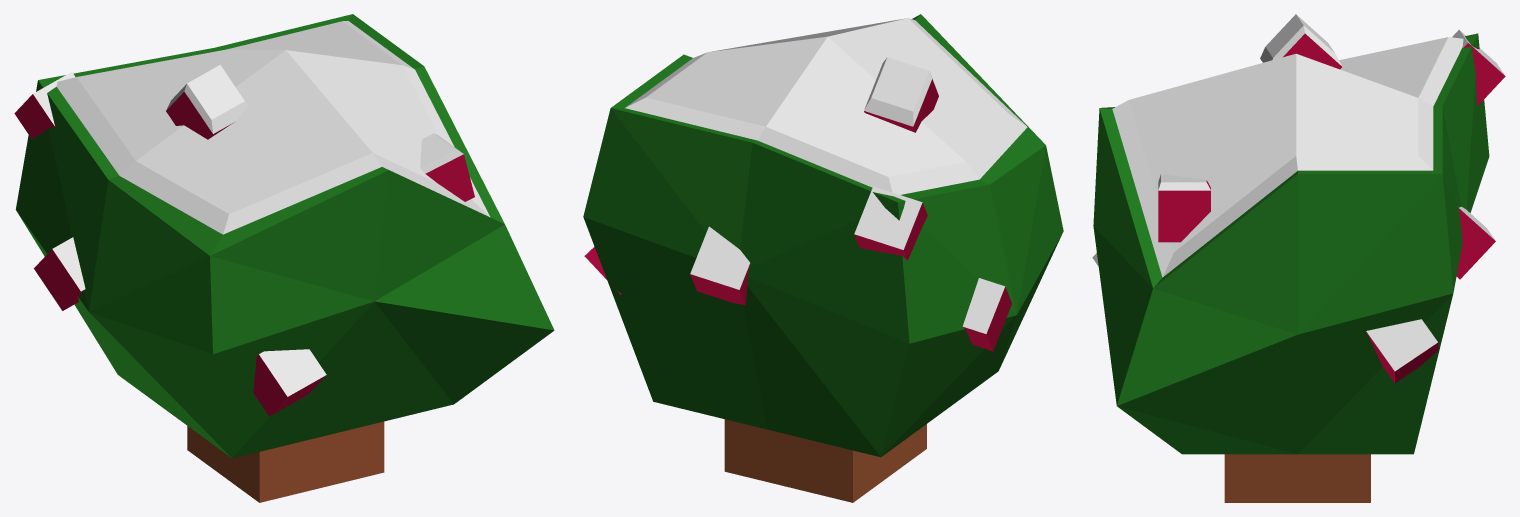
Rendered from berryBushRev1.fbx.
3 renders of one model, left to right at view 1: azimuth 30°, elevation 25°; view 2: azimuth 150°, elevation 25°; view 3: azimuth 270°, elevation 25°, orthographic. The views are drawn at different scales.
Visible parts, largest first — view 1: Cube, Cube.008, Cube.007, Cube.003, Cube.002, Cube.004, Cube.006; view 2: Cube, Cube.008, Cube.007, Cube.006, Cube.005, Cube.004; view 3: Cube, Cube.008, Cube.002, Cube.001, Cube.007, Cube.005, Cube.006.
Boxes of the visible parts, x1,y1,x2,y2 form: Cube: (15,14,554,458); Cube.008: (187,421,384,502); Cube.007: (166,64,247,139); Cube.003: (253,349,326,416); Cube.002: (420,133,474,201); Cube.004: (34,237,85,310); Cube.006: (14,72,75,139); Cube: (583,14,1063,457); Cube.008: (724,419,926,502); Cube.007: (864,57,938,132); Cube.006: (854,186,927,260); Cube.005: (690,226,750,305); Cube.004: (962,278,1011,351); Cube: (1093,33,1489,454); Cube.008: (1224,454,1370,502); Cube.002: (1158,174,1210,242); Cube.001: (1366,319,1438,383); Cube.007: (1260,14,1342,69); Cube.005: (1456,206,1495,279); Cube.006: (1452,29,1505,106).
Size of the model in its own units: 516 by 526 by 472.
